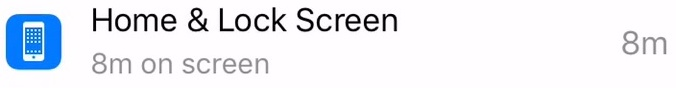name: (84, 3, 407, 37)
time: (87, 46, 139, 82)
